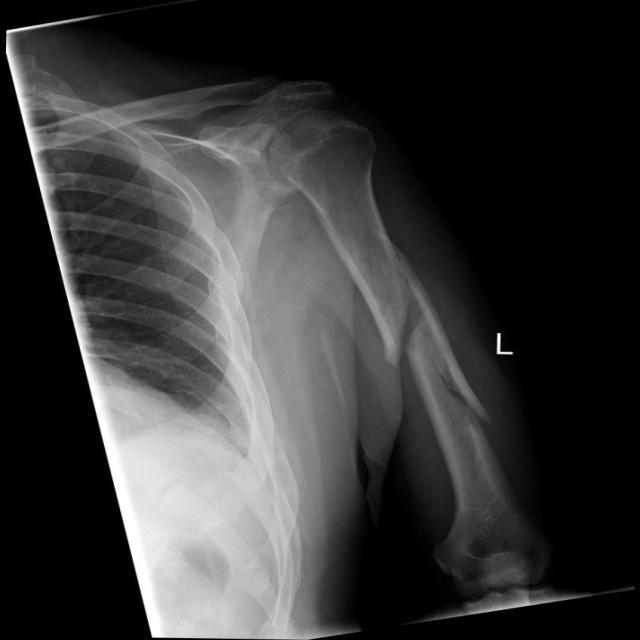Spiral: (363, 251, 512, 429)
